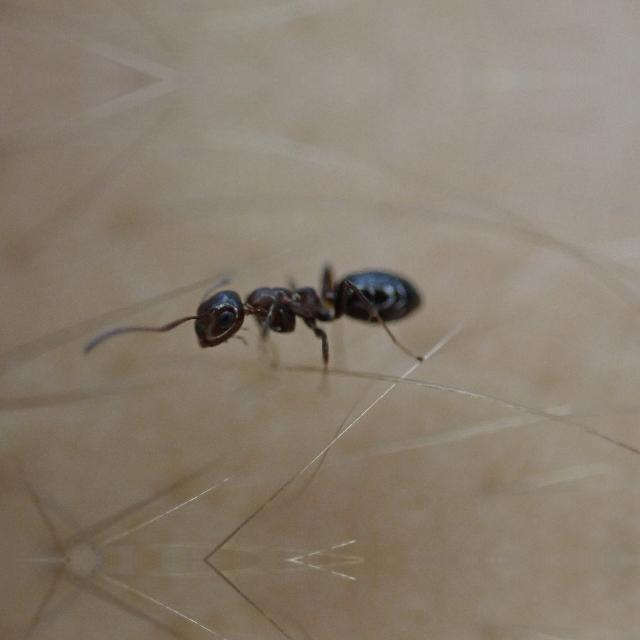Colobopsis: (156, 248, 434, 368)
